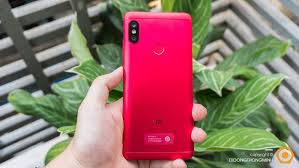bphone: (118, 8, 196, 159)
